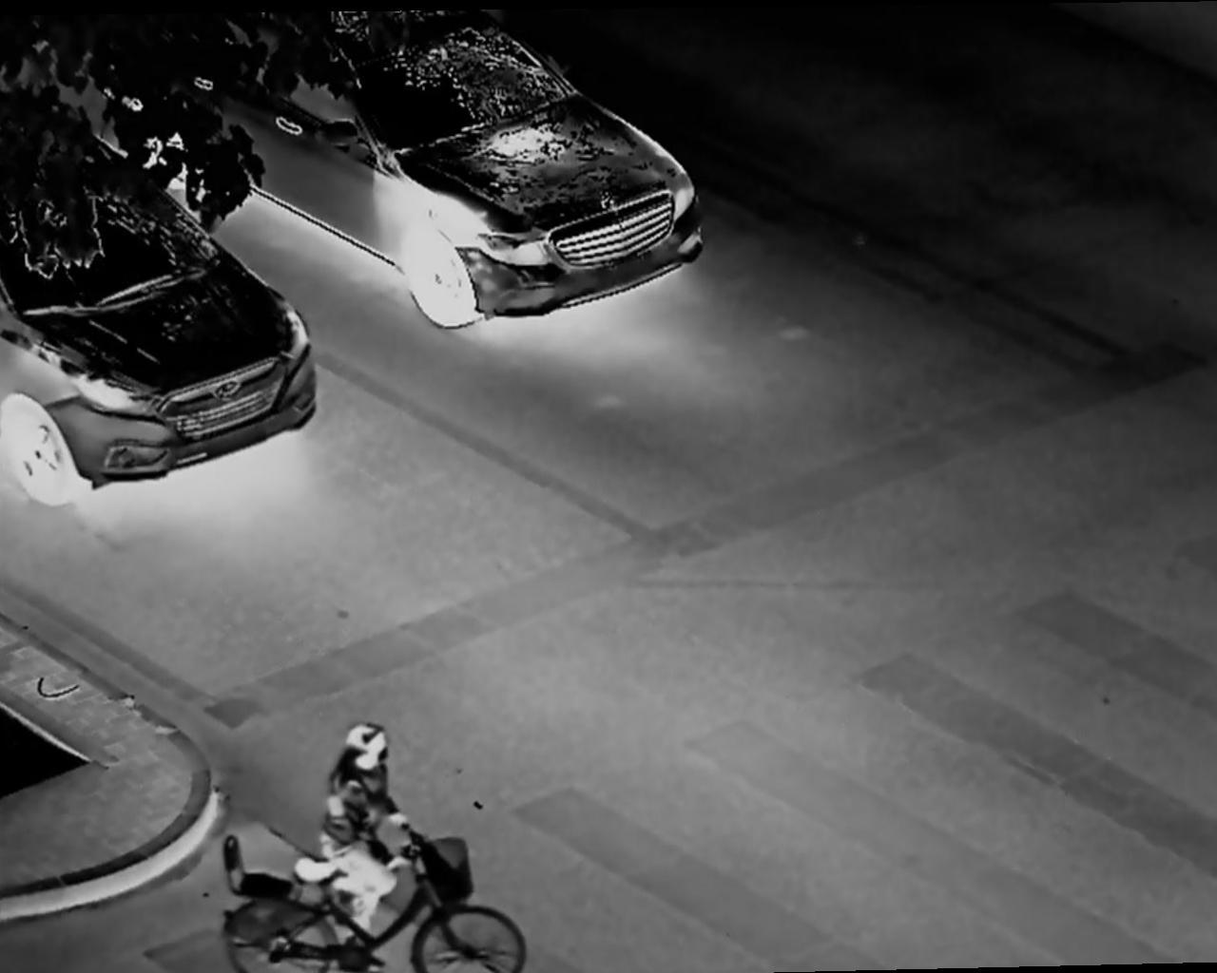person: (309, 718, 421, 954)
